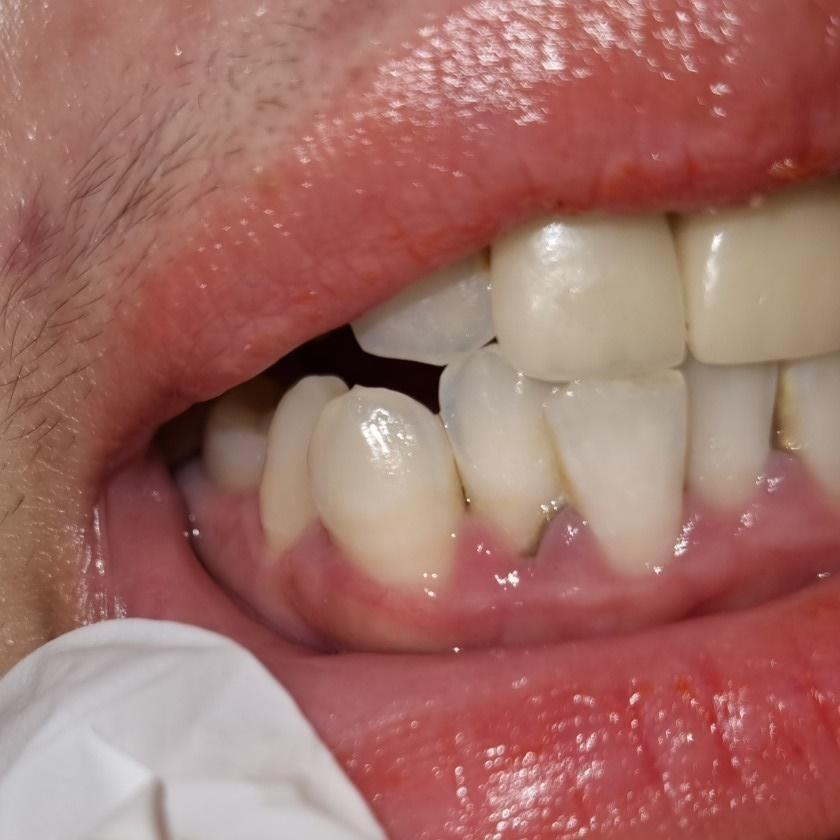Crowding: (441, 347, 674, 582), (248, 367, 450, 611)
